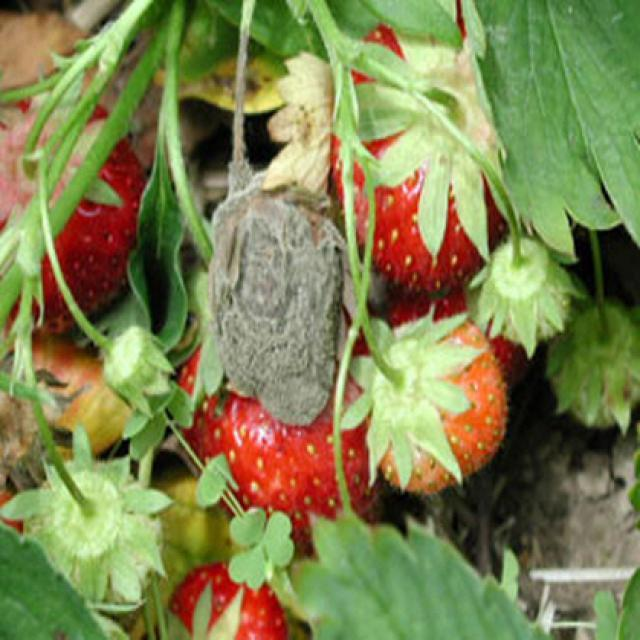Gray Mold: (206, 161, 350, 428)
